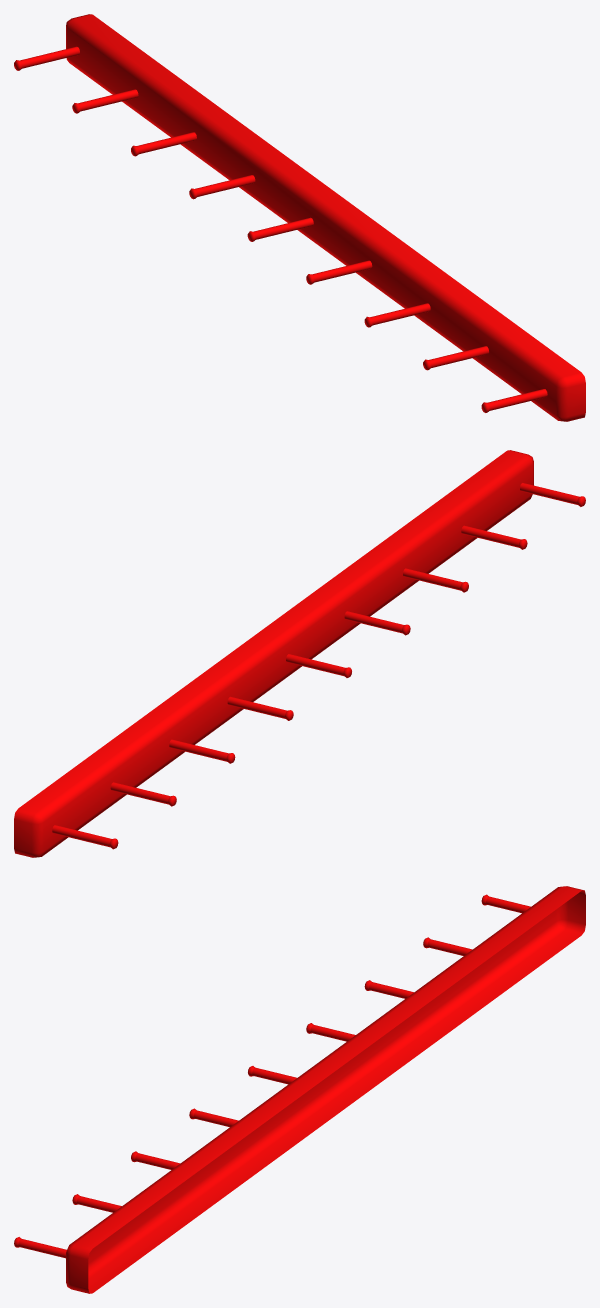
File: veshalka.FBX
The picture shows the model from 3 angles, top to bottom: view 1: azimuth 30°, elevation 25°; view 2: azimuth 150°, elevation 25°; view 3: azimuth 330°, elevation 25°; orthographic projection.
Parts seen in each view (by area): view 1: veshalka; view 2: veshalka; view 3: veshalka.
Boxes of the visible parts, x1,y1,x2,y2 form: veshalka: [14, 14, 585, 421]; veshalka: [14, 450, 585, 857]; veshalka: [14, 886, 585, 1293].
Bounding box in the file's own units: 9.45 × 4.63 × 93.36.
